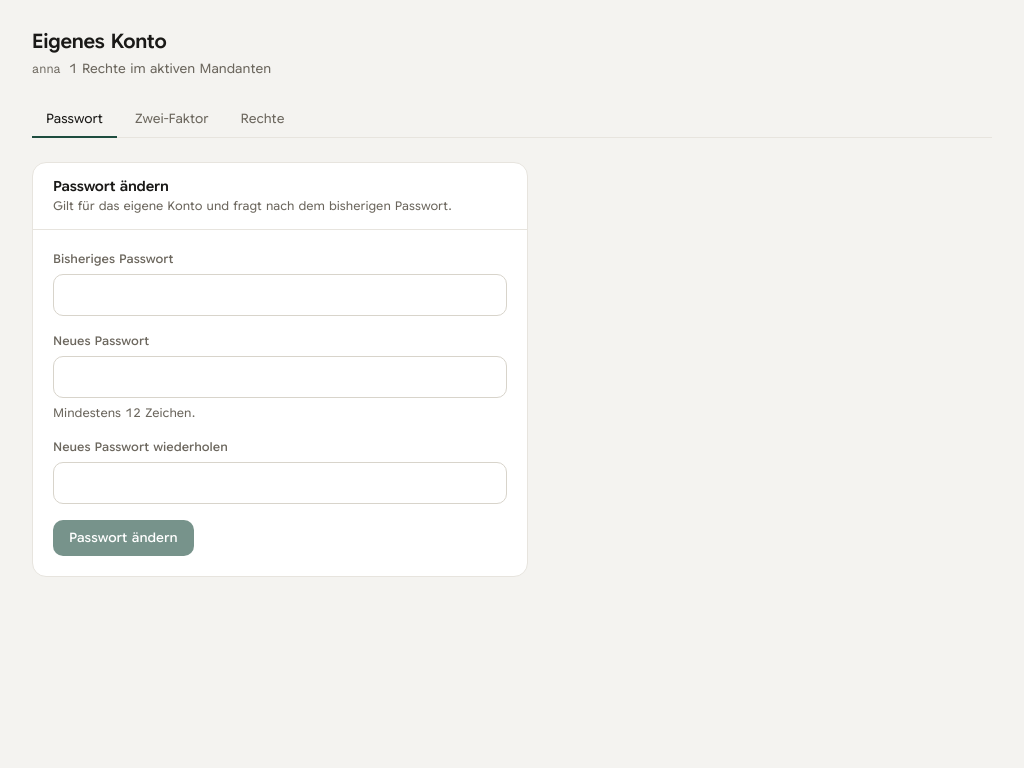
ProfilePage › profilePageNamesAppsWithoutLinkingThemTest
Click the tab "Zwei-Faktor" at (172, 120), box [121,102,223,138]
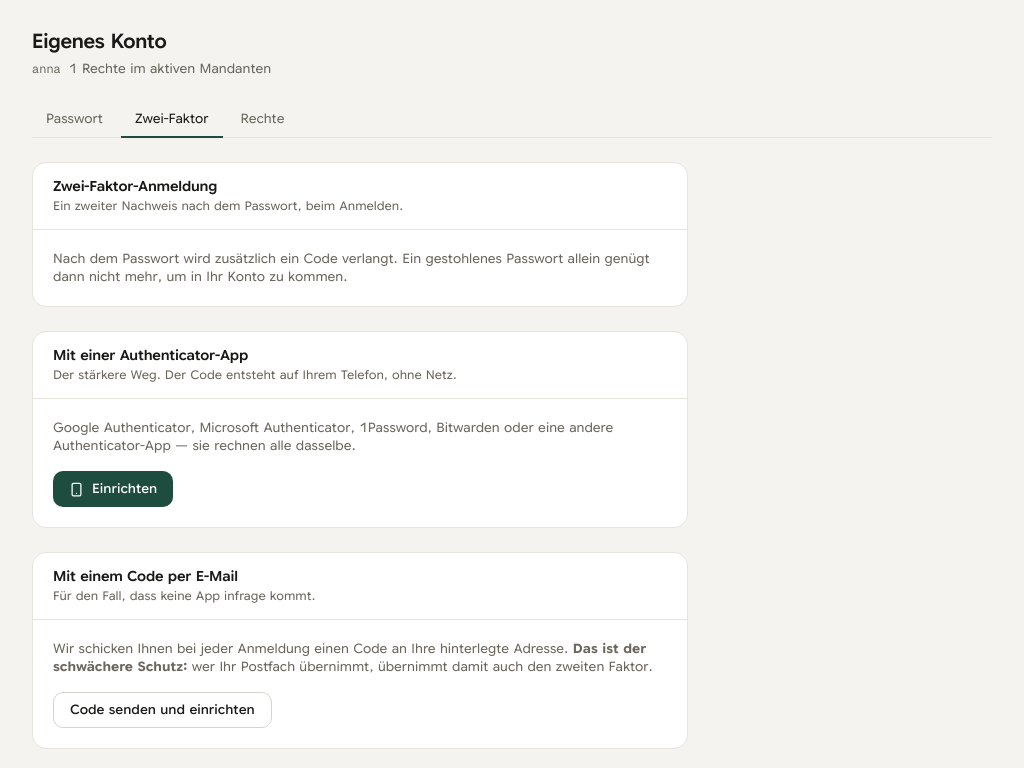
Result: the text "Google Authenticator" is shown at [53,419,613,454]
Result: the text "Microsoft Authenticator" is shown at [53,419,613,454]
